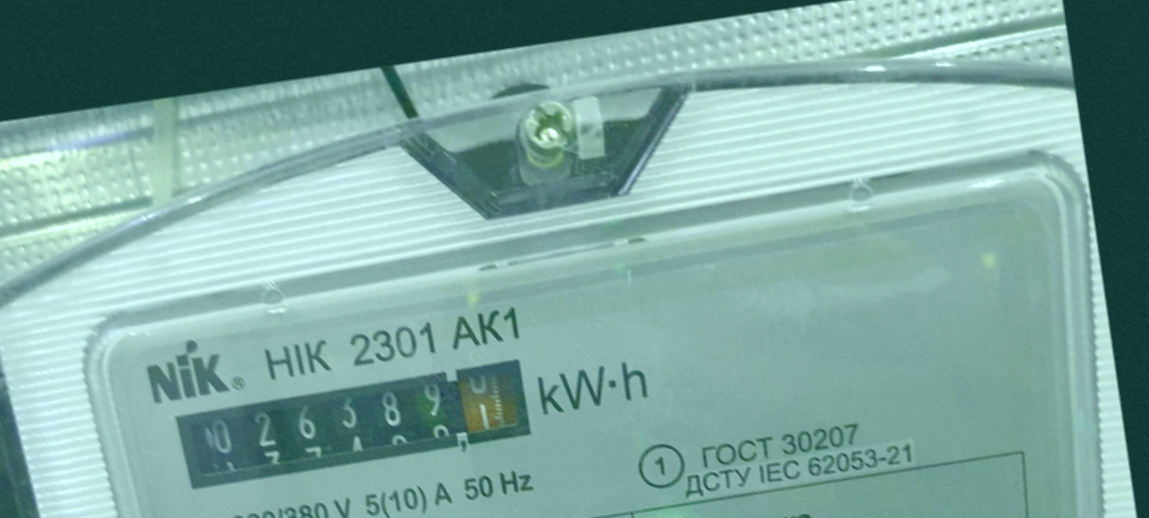0: (207, 413, 236, 456), (468, 372, 489, 395)
1: (476, 398, 493, 431)
2: (251, 406, 280, 448)
3: (337, 394, 359, 430)
6: (295, 400, 318, 441)
8: (379, 387, 405, 428)
9: (422, 380, 444, 416)
screen: (159, 344, 549, 502)
